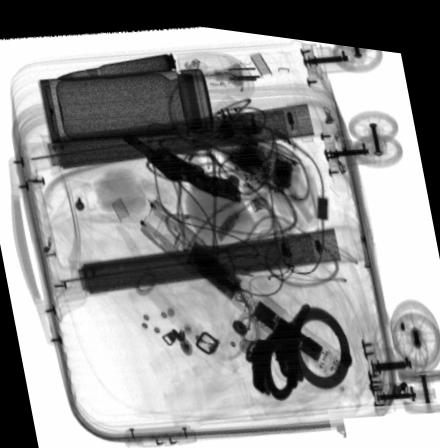Baton: (139, 191, 349, 373)
Bullet: (53, 48, 177, 79)
Gun: (121, 127, 240, 194)
HandCuffs: (245, 293, 354, 392)
